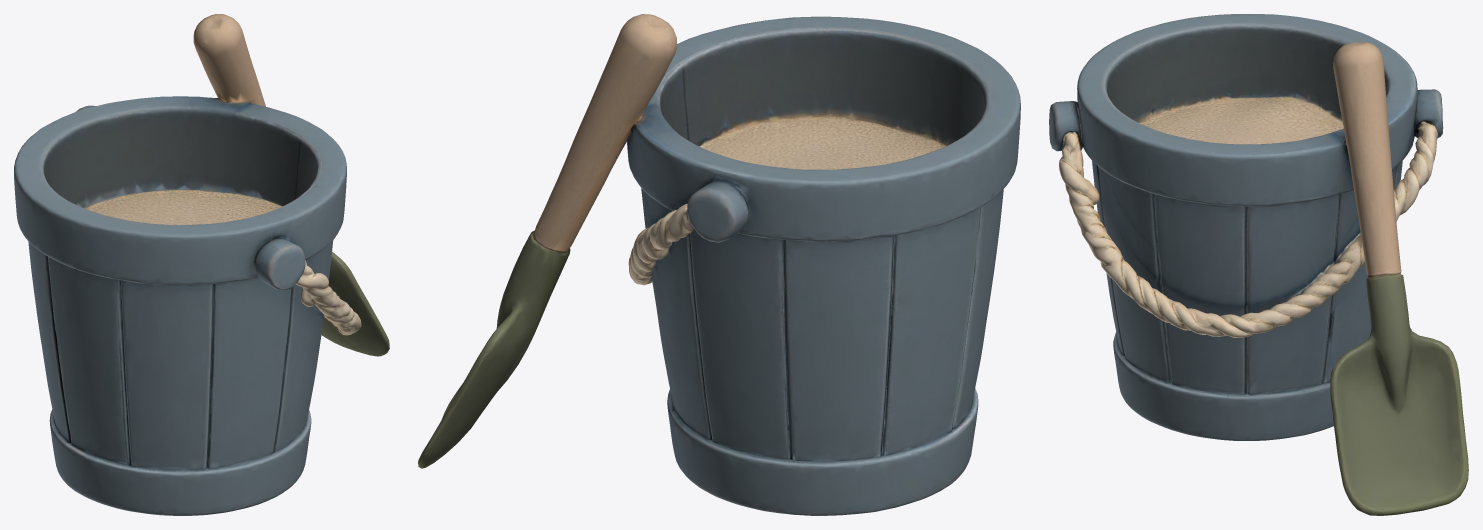
Rendered from bucket.glb.
3 renders of one model, left to right at view 1: azimuth 30°, elevation 25°; view 2: azimuth 150°, elevation 25°; view 3: azimuth 270°, elevation 25°, orthographic. The views are drawn at different scales.
Visible parts, largest first — view 1: tripo_node_f8203a71-a223-44e6-98f6-65acc6c8b041; view 2: tripo_node_f8203a71-a223-44e6-98f6-65acc6c8b041; view 3: tripo_node_f8203a71-a223-44e6-98f6-65acc6c8b041.
Part boxes in pixels (<box>): tripo_node_f8203a71-a223-44e6-98f6-65acc6c8b041: <box>14,14,389,515</box>; tripo_node_f8203a71-a223-44e6-98f6-65acc6c8b041: <box>418,14,1020,515</box>; tripo_node_f8203a71-a223-44e6-98f6-65acc6c8b041: <box>1049,14,1468,515</box>.
Bounding box in the file's own units: 1 × 0.9048 × 0.8777.
Materials: 1 (1 with a texture image).
